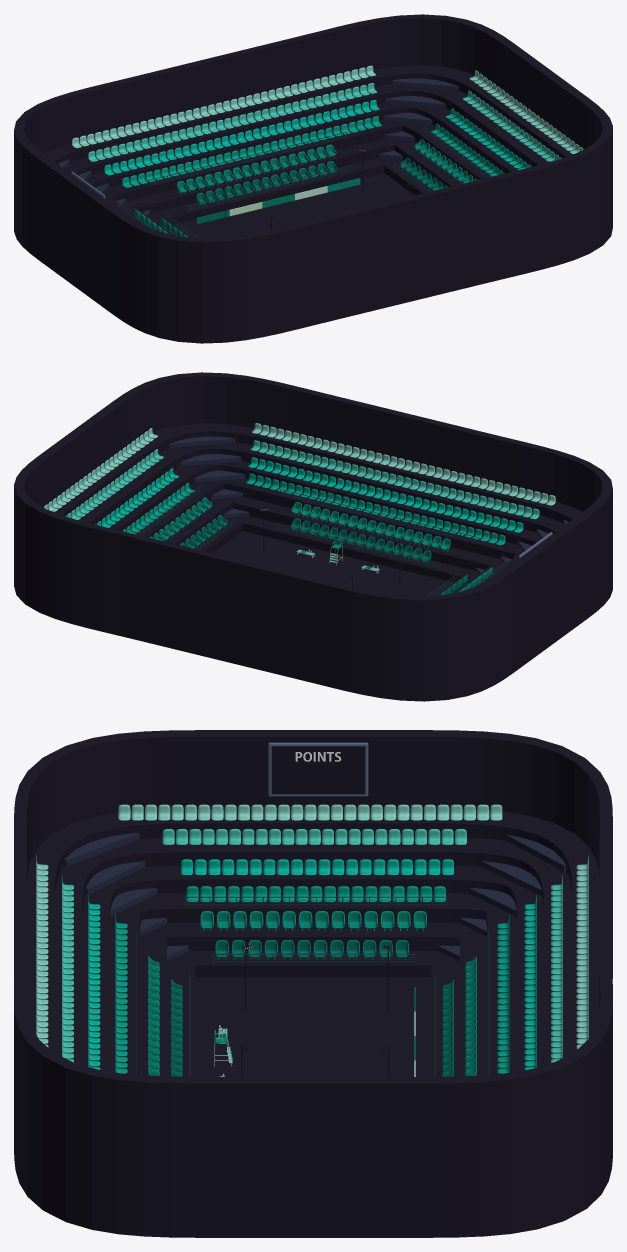
File: stadio47.fbx
The picture shows the model from 3 angles, top to bottom: view 1: azimuth 30°, elevation 25°; view 2: azimuth 150°, elevation 25°; view 3: azimuth 270°, elevation 25°; orthographic projection. The views are drawn at different scales.
Visible parts, largest first — view 1: cancha.001, piso.001, silla7, silla8, silla9, silla10, silla11, silla12, silla13, silla14, deco, silla15 (+7 smaller); view 2: cancha.001, piso.001, silla19, silla20, silla21, silla22, silla23, silla24, silla13, silla14, silla15, barra7 (+6 smaller); view 3: cancha.001, piso.001, silla1, marcador, silla2, silla3, silla4, silla5, silla6, silla7, silla19, silla8 (+17 smaller).
Boxes of the visible parts, x1,y1,x2,y2 form: cancha.001: (14,14,612,343); piso.001: (174,173,414,238); silla7: (72,65,375,148); silla8: (88,83,376,161); silla9: (104,100,379,175); silla10: (122,116,381,187); silla11: (177,144,336,194); silla12: (196,161,337,205); silla13: (469,70,583,153); silla14: (462,90,561,161); deco: (196,178,360,224); silla15: (445,108,531,170); cancha.001: (14,372,612,701); piso.001: (213,531,453,596); silla19: (252,423,555,505); silla20: (250,440,539,519); silla21: (248,457,523,532); silla22: (246,473,505,545); silla23: (291,502,450,551); silla24: (290,518,431,563); silla13: (44,428,157,511); silla14: (65,449,163,519); silla15: (95,468,178,527); barra7: (280,489,479,543); cancha.001: (14,730,612,1237); piso.001: (195,977,431,1076); silla1: (118,804,502,820); marcador: (268,742,368,796); silla2: (162,829,466,844); silla3: (181,859,453,875); silla4: (186,886,445,901); silla5: (200,911,426,931); silla6: (215,939,409,959); silla7: (576,855,588,1048); silla19: (36,855,48,1047); silla8: (551,875,562,1062).
Size of the model in its own units: 16839 by 3445 by 12058.
44 materials, 44 textured.
